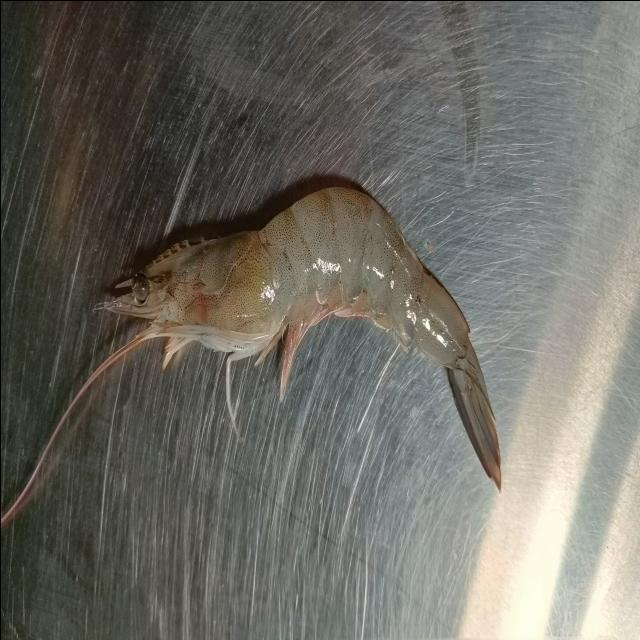shrimp: (96, 180, 500, 490)
